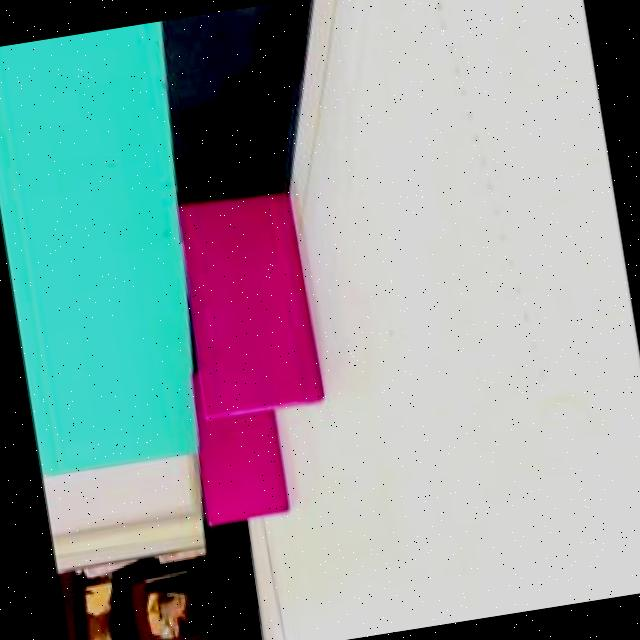xparking: (178, 192, 324, 416), (197, 409, 288, 524)
